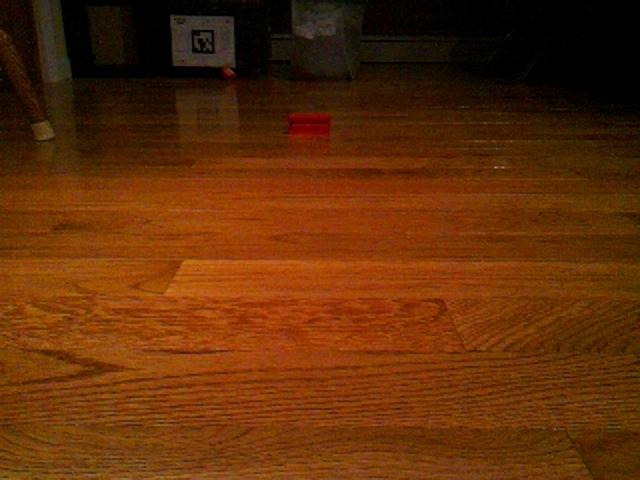red: (286, 111, 332, 139)
